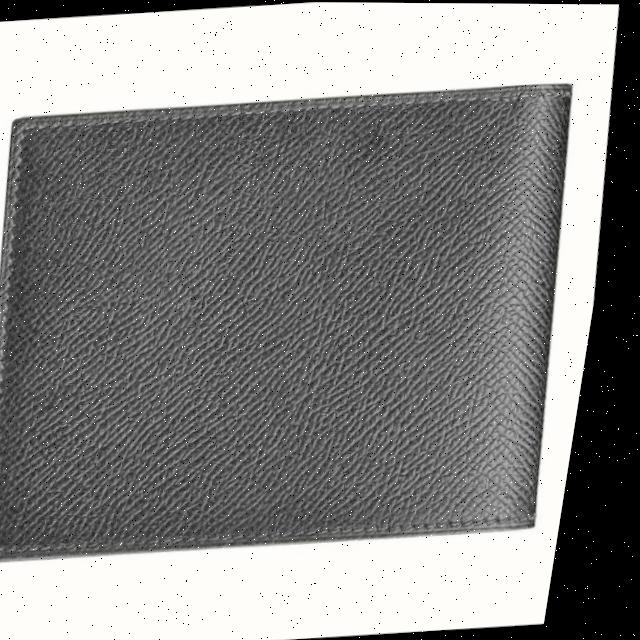cuzdan: (0, 59, 633, 581)
